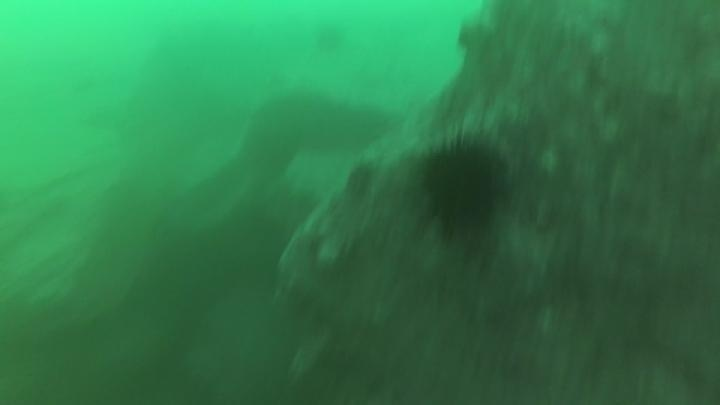echinus: (414, 131, 511, 240), (343, 160, 379, 202), (311, 21, 348, 56)
